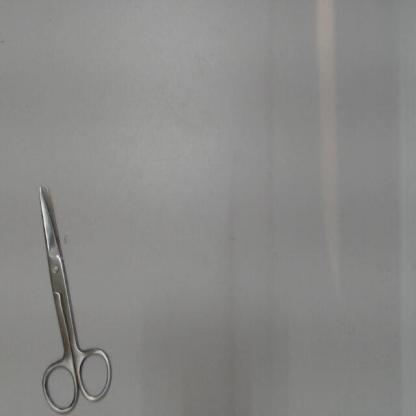Dressing Scissors: (28, 166, 122, 415)
